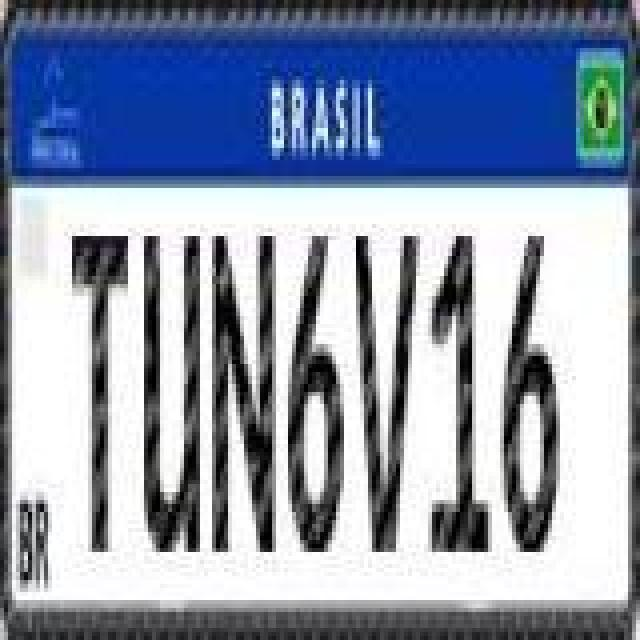1: (426, 230, 494, 554)
6: (494, 224, 562, 560), (286, 224, 346, 560)
N: (210, 220, 278, 556)
T: (68, 224, 132, 560)
U: (140, 224, 204, 560)
V: (354, 224, 422, 560)
